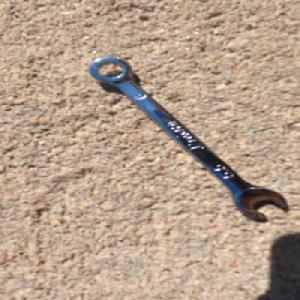Wrench: (86, 56, 289, 223)
